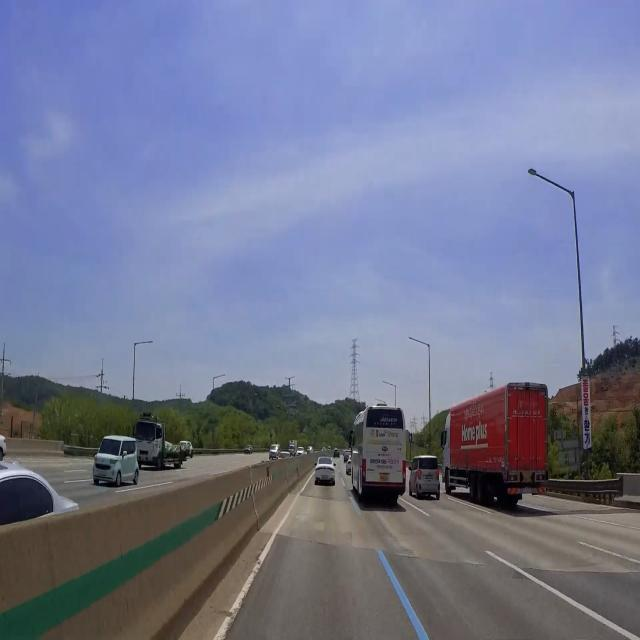car: (521, 471, 534, 485), (378, 472, 390, 483), (424, 473, 434, 481), (139, 452, 146, 463), (320, 474, 328, 479)
